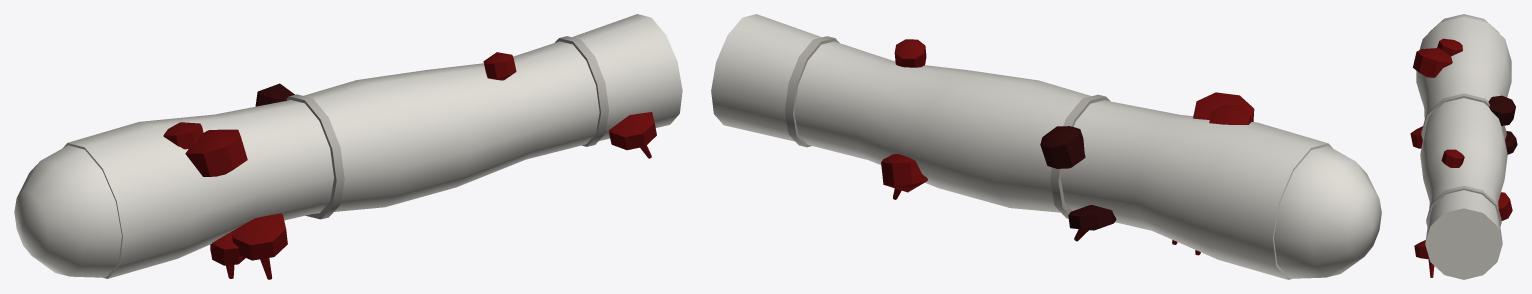
Rendered from ps_arm_b.glb.
The picture shows the model from 3 angles, left to right: view 1: azimuth 30°, elevation 25°; view 2: azimuth 150°, elevation 25°; view 3: azimuth 270°, elevation 25°; orthographic projection. The views are drawn at different scales.
Visible parts, largest first — view 1: teil0, teil2, teil1, teil3; view 2: teil0, teil2, teil3, teil1; view 3: teil0, teil2, teil1, teil3.
Boxes of the visible parts, bbox=[...] form: teil0: bbox=[14, 14, 682, 278]; teil2: bbox=[163, 52, 656, 279]; teil1: bbox=[286, 36, 608, 219]; teil3: bbox=[255, 83, 294, 106]; teil0: bbox=[711, 14, 1381, 279]; teil2: bbox=[881, 39, 1254, 255]; teil3: bbox=[1040, 126, 1116, 230]; teil1: bbox=[785, 36, 1110, 218]; teil0: bbox=[1416, 14, 1511, 279]; teil2: bbox=[1410, 38, 1512, 277]; teil1: bbox=[1421, 93, 1506, 226]; teil3: bbox=[1488, 95, 1517, 154].
Size of the model in its own units: 0.626 by 0.1528 by 0.1367.
